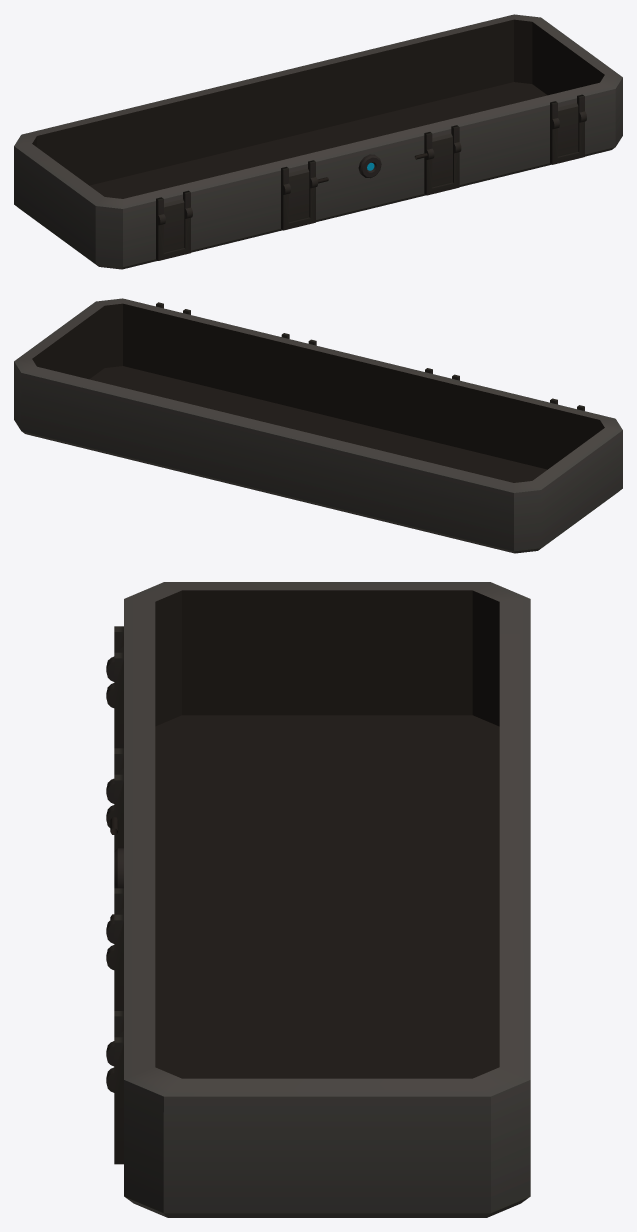
The model's file is Container_03.fbx.
3 views of the same model, one above another, from view 1: azimuth 30°, elevation 25°; view 2: azimuth 150°, elevation 25°; view 3: azimuth 270°, elevation 25° (orthographic). The views are drawn at different scales.
Parts seen in each view (by area): view 1: Container_03; view 2: Container_03; view 3: Container_03.
Boxes of the visible parts, x1,y1,x2,y2 form: Container_03: (14,14,622,269); Container_03: (14,298,622,553); Container_03: (106,582,530,1217).
Bounding box in the file's own units: 131 × 15.5 × 45.78.
